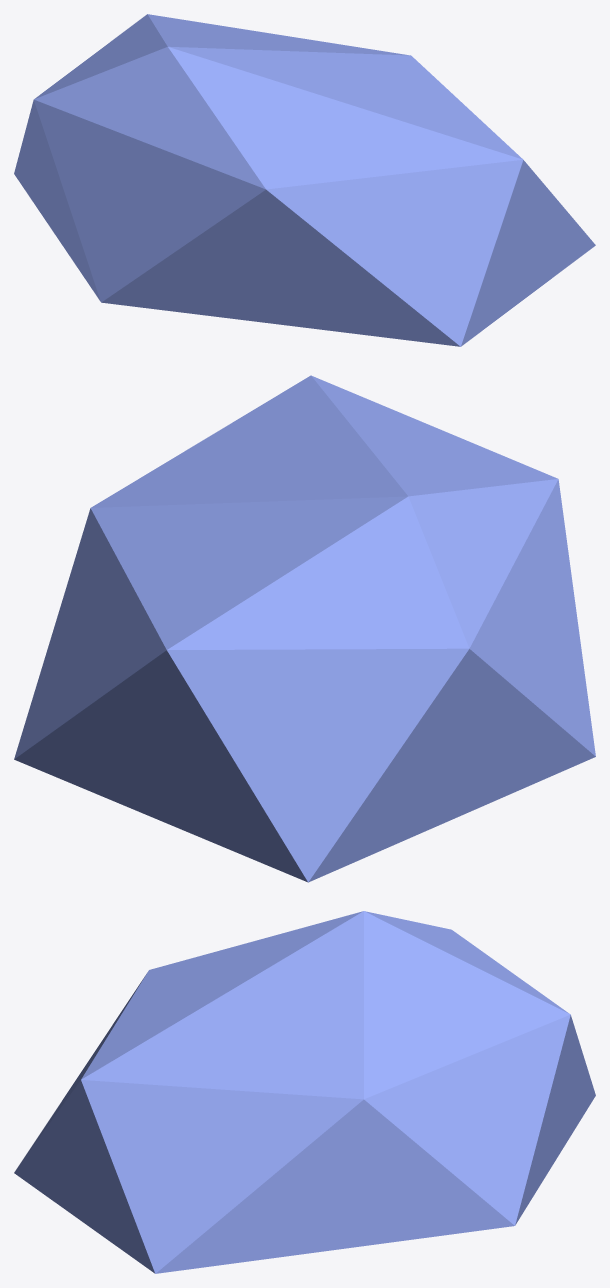
File: rock.fbx
The picture shows the model from 3 angles, top to bottom: view 1: azimuth 30°, elevation 25°; view 2: azimuth 150°, elevation 25°; view 3: azimuth 270°, elevation 25°; orthographic projection. The views are drawn at different scales.
Visible parts, largest first — view 1: Icosphere.015; view 2: Icosphere.015; view 3: Icosphere.015.
Boxes of the visible parts, x1,y1,x2,y2 form: Icosphere.015: [14, 14, 595, 346]; Icosphere.015: [14, 375, 595, 882]; Icosphere.015: [14, 911, 595, 1273].
Size of the model in its own units: 16.41 by 14.09 by 6.33.
